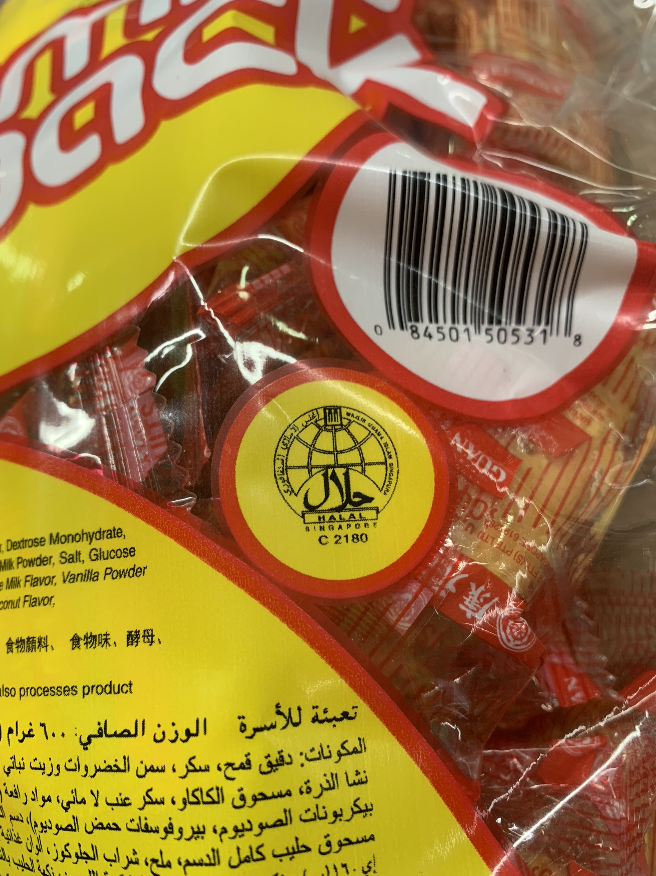halal: (287, 411, 397, 515)
